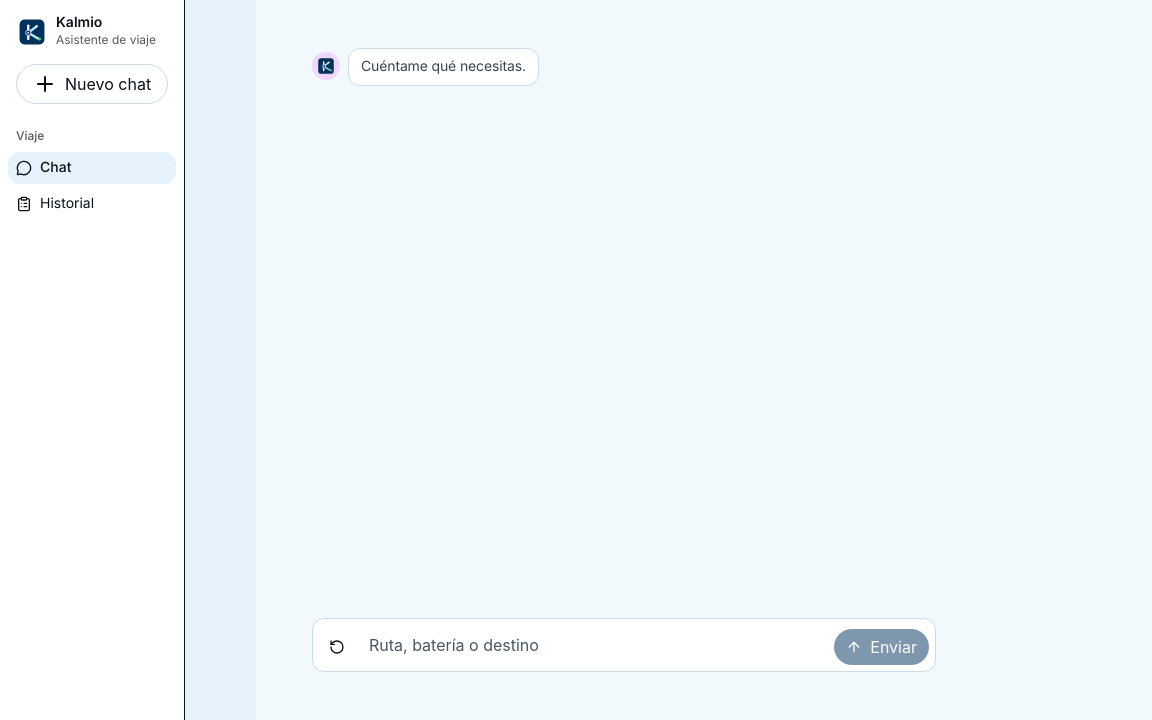
App › scrolls new agent results to the primary recommendation instead of the last alternative
This screenshot has width=1152, height=720.
Click the link with aria-label "Chat". click: (86, 31)
box: [16, 14, 156, 48]
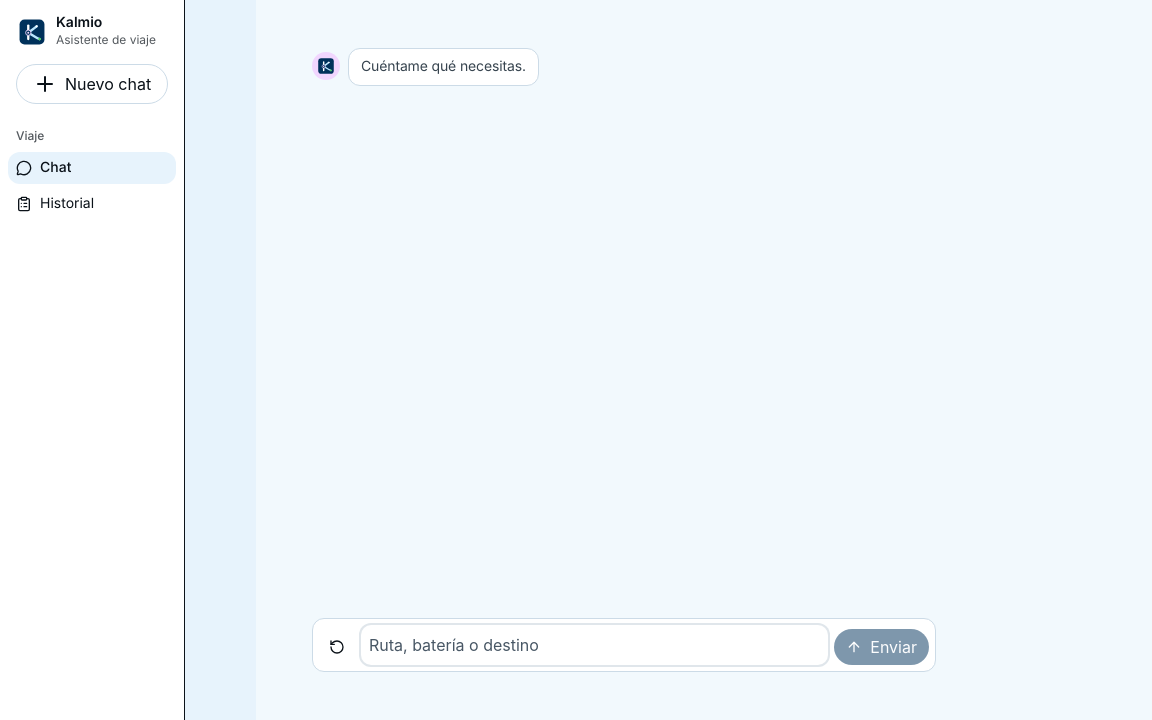
Expected: the text "Cuéntame qué necesitas." is shown, [361, 57, 526, 78]
Type "Estoy en Córdoba con un 18%" into the text box named "Mensaje para Kalmio". click: (595, 645)
box: [361, 625, 828, 665]
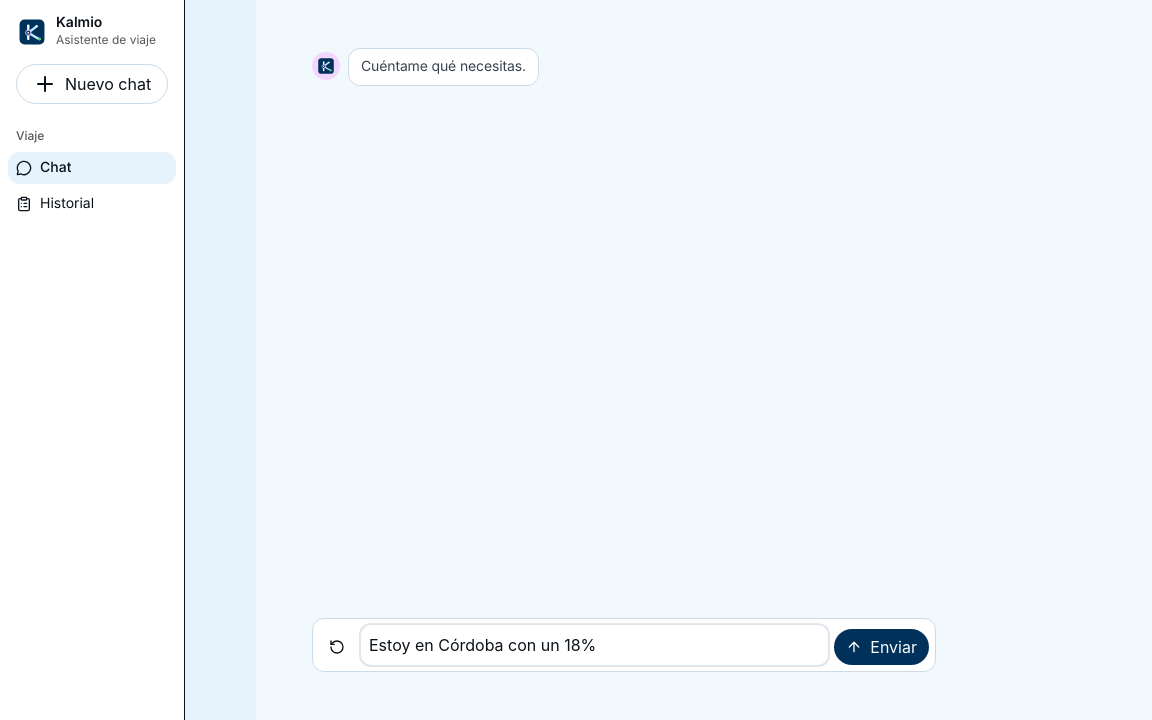
Click the button "Enviar". click: (882, 647)
box: [834, 629, 929, 665]
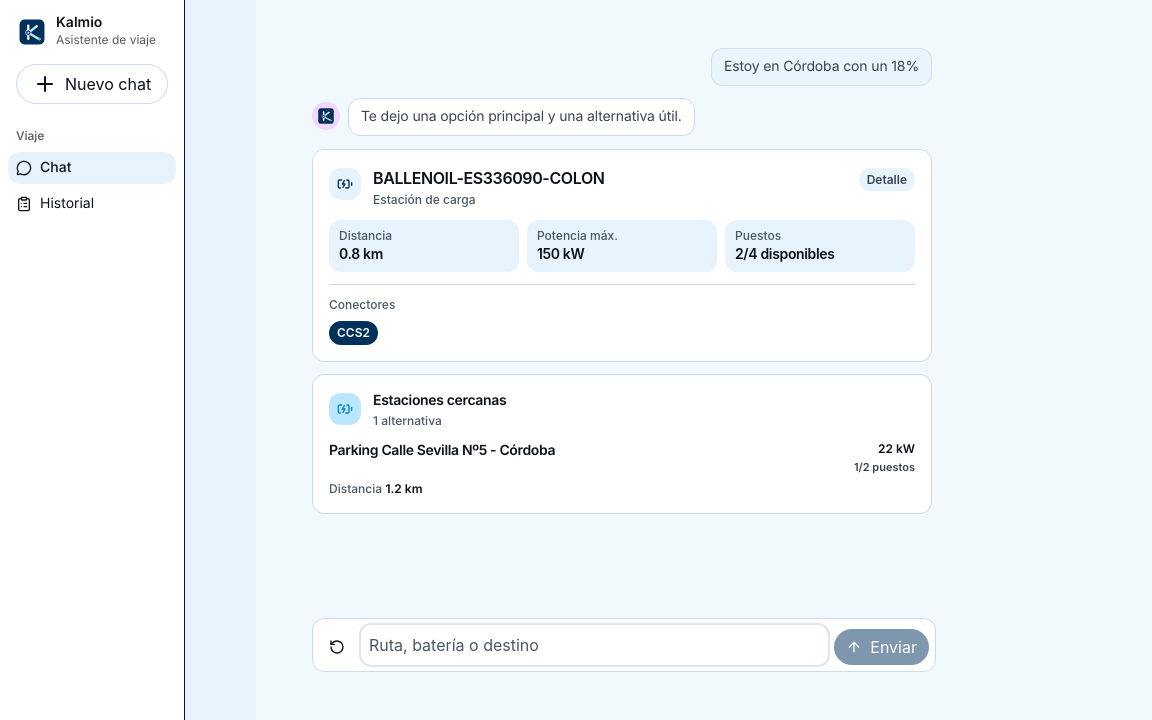
Expected: the text "BALLENOIL-ES336090-COLON" is shown, [373, 168, 604, 188]
Expected: the text "Parking Calle Sevilla Nº5 - Córdoba" is shown, [329, 441, 555, 461]
